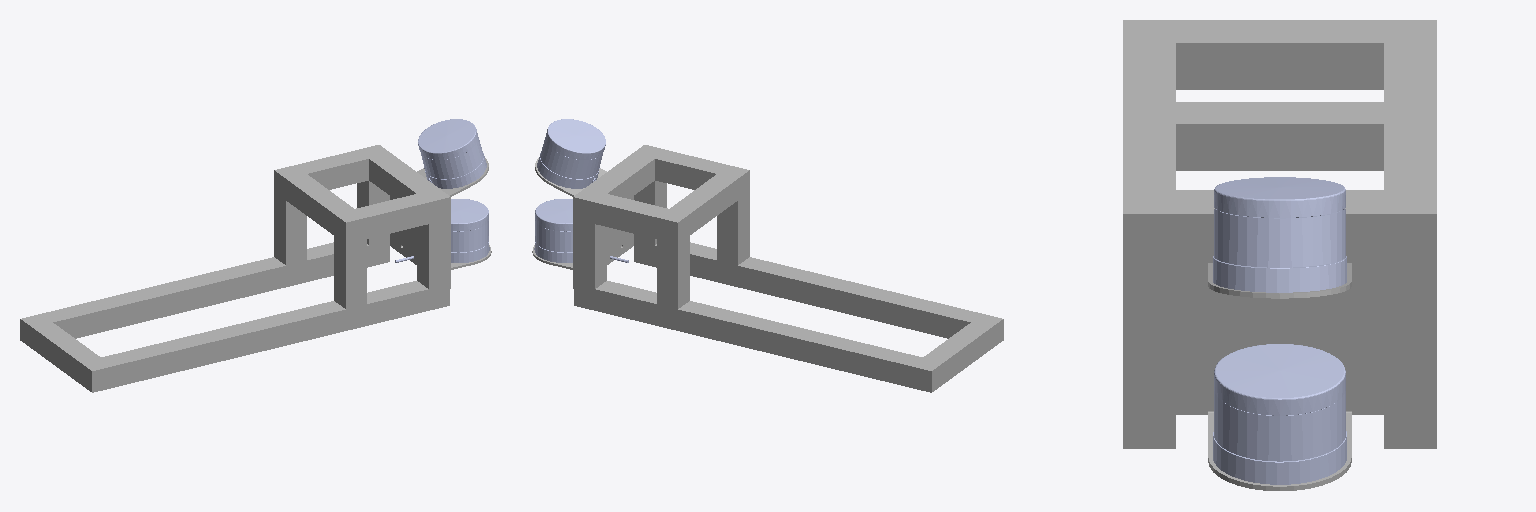
robot.urdf — chasss_for_urdf2:
<?xml version="1.0" encoding="utf-8"?>
<!-- This URDF was automatically created by SolidWorks to URDF Exporter! Originally created by Stephen Brawner (brawner@gmail.com) 
     Commit Version: 1.6.0-4-g7f85cfe  Build Version: 1.6.7995.38578
     For more information, please see http://wiki.ros.org/sw_urdf_exporter -->
<robot
  name="chasss_for_urdf2">
  <link
    name="base_link">
    <inertial>
      <origin
        xyz="0.424246381723798 7.26072109839669E-18 0.0774205516587396"
        rpy="0 0 0" />
      <mass
        value="12.3300111872581" />
      <inertia
        ixx="0.0159928080466918"
        ixy="1.46672815273748E-17"
        ixz="-2.6773615291326E-05"
        iyy="0.247227904954156"
        iyz="-3.56992997544759E-19"
        izz="0.246166478854635" />
    </inertial>
    <visual>
      <origin
        xyz="0 0 0"
        rpy="0 0 0" />
      <geometry>
        <mesh
          filename="package://chasss_for_urdf2/meshes/base_link.STL" />
      </geometry>
      <material
        name="">
        <color
          rgba="0.752941176470588 0.752941176470588 0.752941176470588 1" />
      </material>
    </visual>
    <collision>
      <origin
        xyz="0 0 0"
        rpy="0 0 0" />
      <geometry>
        <mesh
          filename="package://chasss_for_urdf2/meshes/base_link.STL" />
      </geometry>
    </collision>
  </link>
  <link
    name="Look_up_LiDAR_Link">
    <inertial>
      <origin
        xyz="-0.0422047849945084 -2.58011587595808E-06 -0.00194447493412397"
        rpy="0 0 0" />
      <mass
        value="0.585082164665025" />
      <inertia
        ixx="0.000629066968767259"
        ixy="1.14082008003088E-10"
        ixz="6.84751337082159E-08"
        iyy="0.000630263933919505"
        iyz="-5.00486006264996E-08"
        izz="0.000749251783633221" />
    </inertial>
    <visual>
      <origin
        xyz="0 0 0"
        rpy="0 0 0" />
      <geometry>
        <mesh
          filename="package://chasss_for_urdf2/meshes/Look_up_LiDAR_Link.STL" />
      </geometry>
      <material
        name="">
        <color
          rgba="0.792156862745098 0.819607843137255 0.933333333333333 1" />
      </material>
    </visual>
    <collision>
      <origin
        xyz="0 0 0"
        rpy="0 0 0" />
      <geometry>
        <mesh
          filename="package://chasss_for_urdf2/meshes/Look_up_LiDAR_Link.STL" />
      </geometry>
    </collision>
  </link>
  <joint
    name="Look_up_LiDAR_Joint"
    type="fixed">
    <origin
      xyz="0.78396 0 0.22771"
      rpy="0 -0.2618 0" />
    <parent
      link="base_link" />
    <child
      link="Look_up_LiDAR_Link" />
    <axis
      xyz="0 0 0" />
  </joint>
  <link
    name="Look_forward_LiDAR_Link">
    <inertial>
      <origin
        xyz="-0.0422047844576808 -2.58019387493601E-06 -0.00194447423478739"
        rpy="0 0 0" />
      <mass
        value="0.585082152494289" />
      <inertia
        ixx="0.000629066957622612"
        ixy="1.1260064667654E-10"
        ixz="6.84879643021242E-08"
        iyy="0.000630263912705768"
        iyz="-5.00502875847165E-08"
        izz="0.000749251773722337" />
    </inertial>
    <visual>
      <origin
        xyz="0 0 0"
        rpy="0 0 0" />
      <geometry>
        <mesh
          filename="package://chasss_for_urdf2/meshes/Look_forward_LiDAR_Link.STL" />
      </geometry>
      <material
        name="">
        <color
          rgba="0.792156862745098 0.819607843137255 0.933333333333333 1" />
      </material>
    </visual>
    <collision>
      <origin
        xyz="0 0 0"
        rpy="0 0 0" />
      <geometry>
        <mesh
          filename="package://chasss_for_urdf2/meshes/Look_forward_LiDAR_Link.STL" />
      </geometry>
    </collision>
  </link>
  <joint
    name="Look_forward_LiDAR_joint"
    type="fixed">
    <origin
      xyz="0.79891 0 0.071719"
      rpy="0 0 0" />
    <parent
      link="base_link" />
    <child
      link="Look_forward_LiDAR_Link" />
    <axis
      xyz="0 0 0" />
  </joint>
</robot>

--- What the picture shows (computed from the rendered views, not written in the file) ---
The picture shows the robot from 3 angles, left to right: view 1: azimuth 30°, elevation 25°; view 2: azimuth 150°, elevation 25°; view 3: azimuth 270°, elevation 25°; orthographic projection.
Robot: chasss_for_urdf2 — 3 links, 2 joints (2 fixed); root link base_link; default pose: every joint at zero.
Links seen in each view (by area): view 1: base_link, Look_up_LiDAR_Link, Look_forward_LiDAR_Link; view 2: base_link, Look_up_LiDAR_Link, Look_forward_LiDAR_Link; view 3: base_link, Look_forward_LiDAR_Link, Look_up_LiDAR_Link.
Boxes of the visible links, x1=… form: base_link: x1=20, y1=145, x2=491, y2=392; Look_up_LiDAR_Link: x1=418, y1=119, x2=486, y2=188; Look_forward_LiDAR_Link: x1=395, y1=199, x2=489, y2=262; base_link: x1=532, y1=145, x2=1003, y2=392; Look_up_LiDAR_Link: x1=537, y1=119, x2=605, y2=188; Look_forward_LiDAR_Link: x1=534, y1=199, x2=628, y2=262; base_link: x1=1123, y1=20, x2=1436, y2=490; Look_forward_LiDAR_Link: x1=1213, y1=344, x2=1346, y2=484; Look_up_LiDAR_Link: x1=1213, y1=177, x2=1346, y2=292.
Bounding box of the posed robot: 0.832 × 0.24 × 0.2628 m (x, y, z).
3 mesh visuals loaded from 3 distinct referenced files (3 binary STL).
